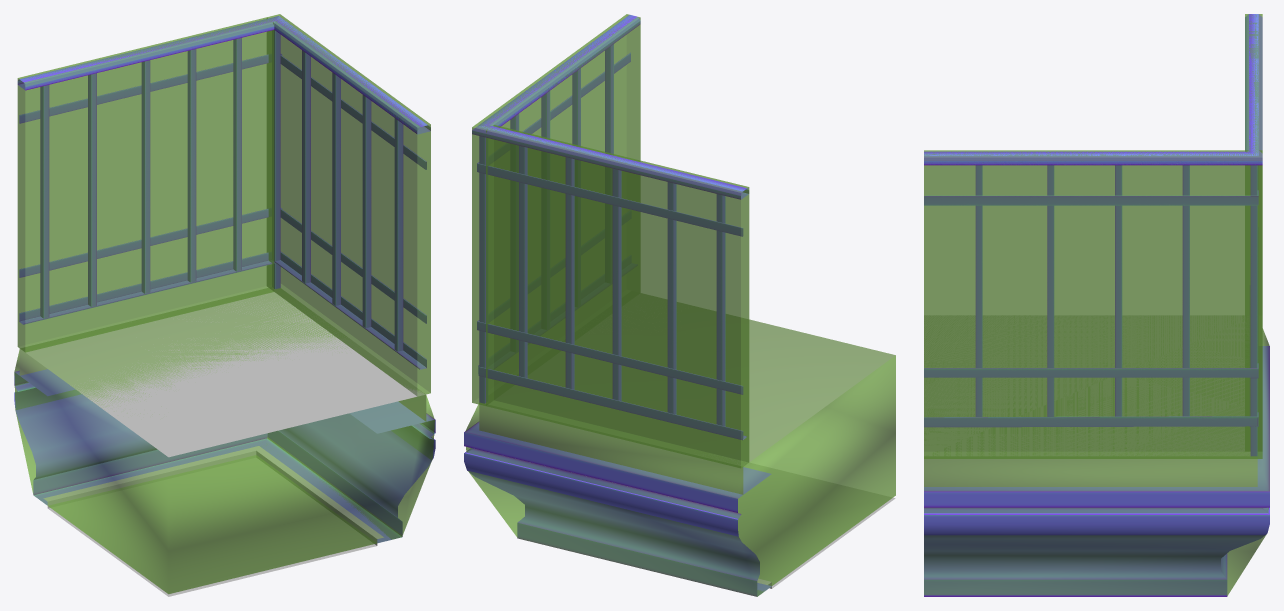
Rendered from F_md_Balcony_L_90cnr_02.fbx.
3 views of the same model, side by side, from view 1: azimuth 30°, elevation 25°; view 2: azimuth 150°, elevation 25°; view 3: azimuth 270°, elevation 25° (orthographic). The views are drawn at different scales.
Parts seen in each view (by area): view 1: F_md_Balcony_L_90cnr_02_LOD0, F_md_Balcony_L_90cnr_02_col_01, F_md_Balcony_L_90cnr_02_col_03, F_md_Balcony_L_90cnr_02_col_02; view 2: F_md_Balcony_L_90cnr_02_LOD0, F_md_Balcony_L_90cnr_02_col_03, F_md_Balcony_L_90cnr_02_col_01, F_md_Balcony_L_90cnr_02_col_02; view 3: F_md_Balcony_L_90cnr_02_LOD0, F_md_Balcony_L_90cnr_02_col_02, F_md_Balcony_L_90cnr_02_col_01, F_md_Balcony_L_90cnr_02_col_03.
Part boxes in pixels (left/top/right/bottom): F_md_Balcony_L_90cnr_02_LOD0: left=14, top=16, right=435, bottom=596; F_md_Balcony_L_90cnr_02_col_01: left=14, top=288, right=434, bottom=594; F_md_Balcony_L_90cnr_02_col_03: left=17, top=17, right=274, bottom=352; F_md_Balcony_L_90cnr_02_col_02: left=267, top=14, right=430, bottom=396; F_md_Balcony_L_90cnr_02_LOD0: left=464, top=15, right=895, bottom=596; F_md_Balcony_L_90cnr_02_col_03: left=486, top=125, right=749, bottom=468; F_md_Balcony_L_90cnr_02_col_01: left=465, top=319, right=895, bottom=596; F_md_Balcony_L_90cnr_02_col_02: left=472, top=14, right=640, bottom=405; F_md_Balcony_L_90cnr_02_LOD0: left=924, top=14, right=1269, bottom=596; F_md_Balcony_L_90cnr_02_col_02: left=924, top=150, right=1262, bottom=458; F_md_Balcony_L_90cnr_02_col_01: left=924, top=328, right=1269, bottom=595; F_md_Balcony_L_90cnr_02_col_03: left=1245, top=14, right=1262, bottom=451.
Size of what is drawn, in the model's own units: 102 by 149 by 102.
